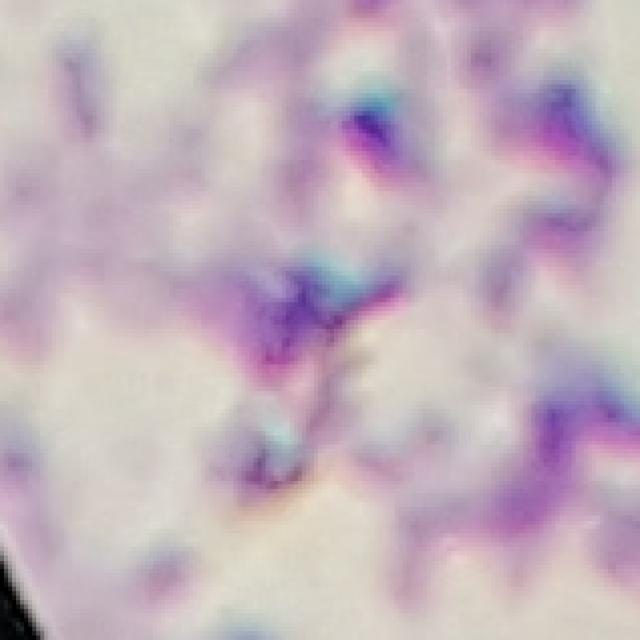non-sperm: (245, 247, 413, 506)
